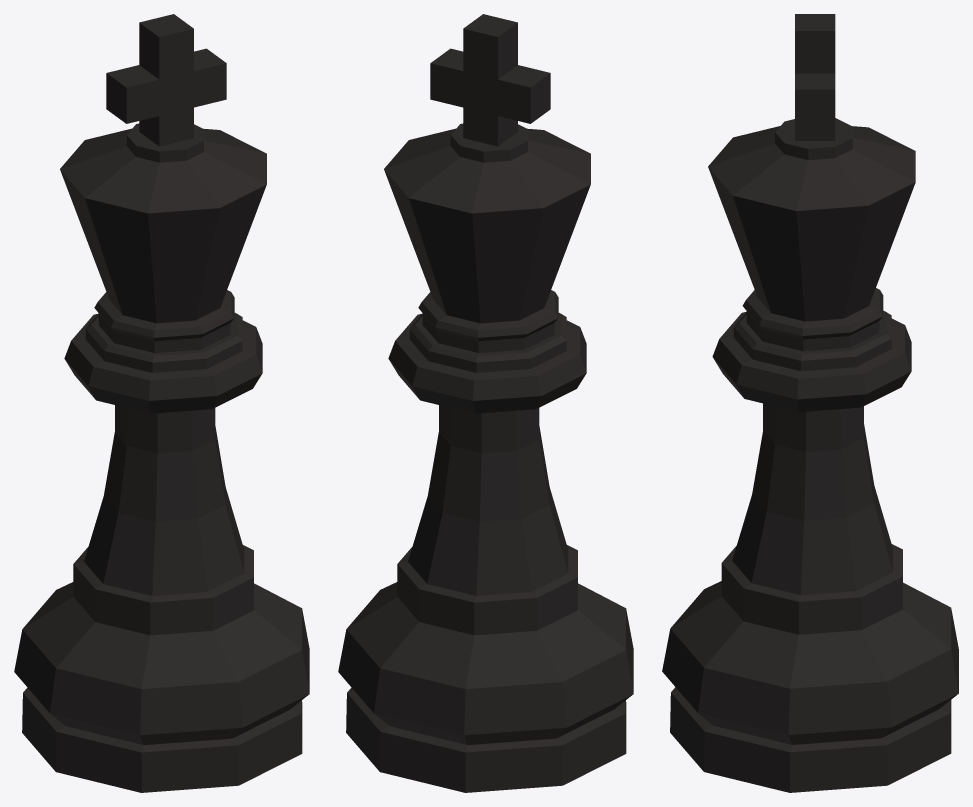
Rendered from oking.FBX.
3 renders of one model, left to right at view 1: azimuth 30°, elevation 25°; view 2: azimuth 150°, elevation 25°; view 3: azimuth 270°, elevation 25°, orthographic.
Visible parts, largest first — view 1: Black_King_mesh; view 2: Black_King_mesh; view 3: Black_King_mesh.
Boxes of the visible parts, bbox=[...] form: Black_King_mesh: bbox=[14, 14, 309, 792]; Black_King_mesh: bbox=[338, 14, 633, 792]; Black_King_mesh: bbox=[662, 14, 958, 792].
Bounding box in the file's own units: 2.64 × 2.6 × 6.88.
Materials: 1 (1 with a texture image).
